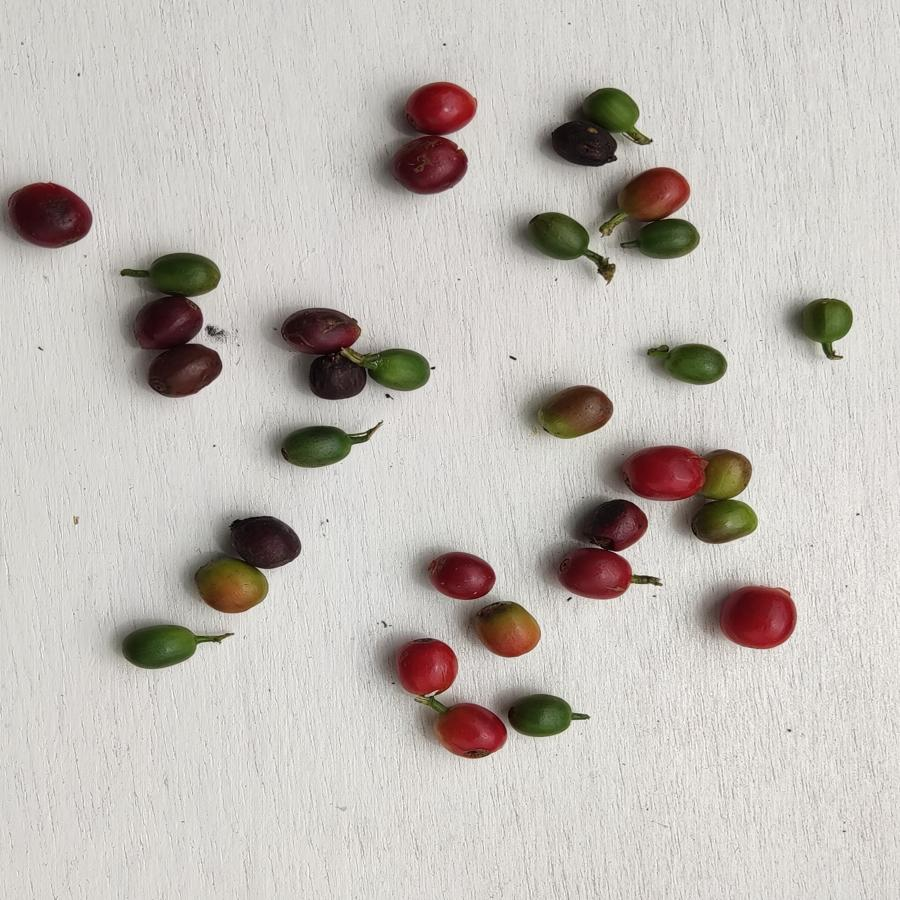Inmaduro: (653, 337, 732, 390), (123, 622, 200, 674), (524, 208, 592, 266), (277, 425, 358, 471), (143, 252, 227, 295), (364, 345, 434, 396), (505, 689, 575, 739), (799, 295, 858, 350), (581, 85, 643, 136), (637, 218, 704, 260)
Maduro: (713, 583, 799, 647), (620, 441, 703, 506), (423, 698, 507, 758), (558, 546, 637, 608), (397, 80, 479, 135), (395, 634, 461, 701), (616, 165, 696, 220)
Pinton: (192, 555, 272, 621), (536, 383, 614, 441), (474, 595, 544, 658), (691, 500, 759, 548), (698, 443, 754, 500)
Sobremaduro: (6, 180, 97, 251), (391, 132, 478, 198), (143, 344, 224, 402), (229, 509, 305, 566), (278, 305, 363, 353), (542, 122, 616, 174), (130, 296, 196, 352), (426, 553, 496, 601), (580, 498, 648, 545), (305, 352, 366, 401)
